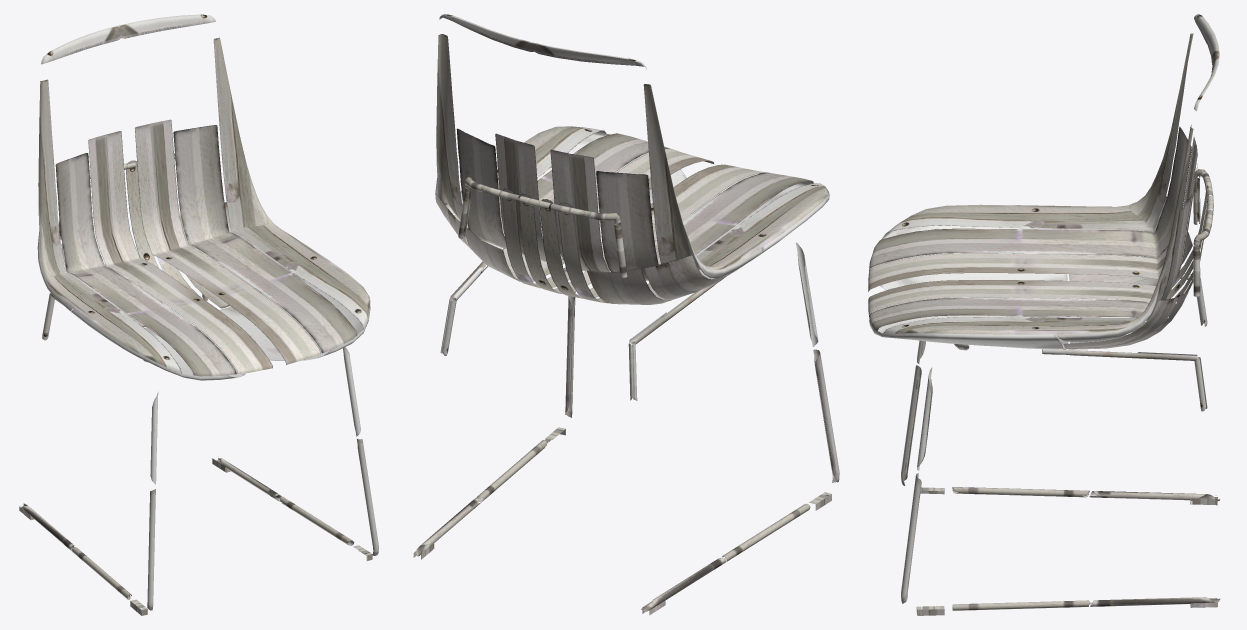
The picture shows the model from 3 angles, left to right: view 1: azimuth 30°, elevation 25°; view 2: azimuth 150°, elevation 25°; view 3: azimuth 270°, elevation 25°; orthographic projection. The views are drawn at different scales.
Visible parts, largest first — view 1: Ventura_2; view 2: Ventura_2; view 3: Ventura_2.
Boxes of the visible parts, <box> form: Ventura_2: <box>19,14,378,615</box>; Ventura_2: <box>413,14,839,615</box>; Ventura_2: <box>868,14,1220,615</box>.
Bounding box in the file's own units: 0.8374 × 1.5 × 0.9931.
